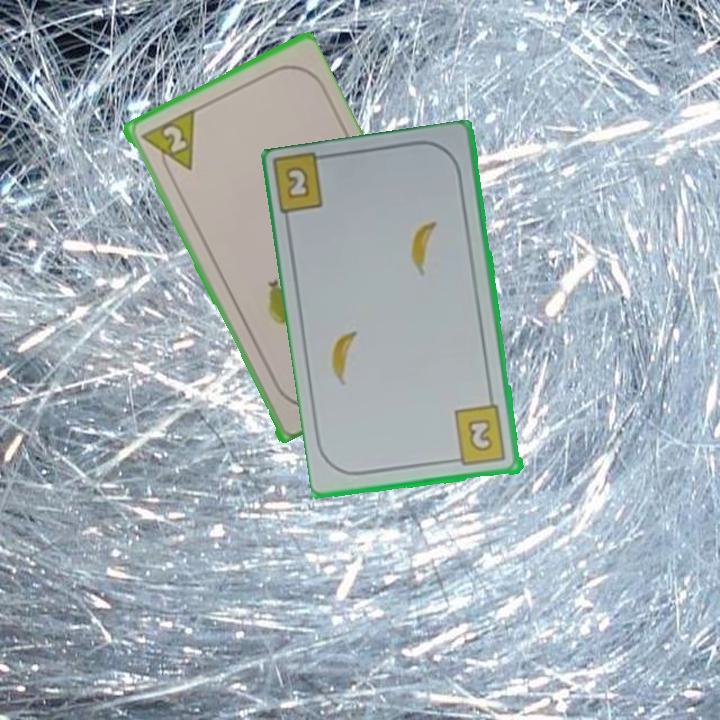2b: (448, 402, 509, 469), (281, 162, 314, 203)
2p: (136, 106, 197, 180)
